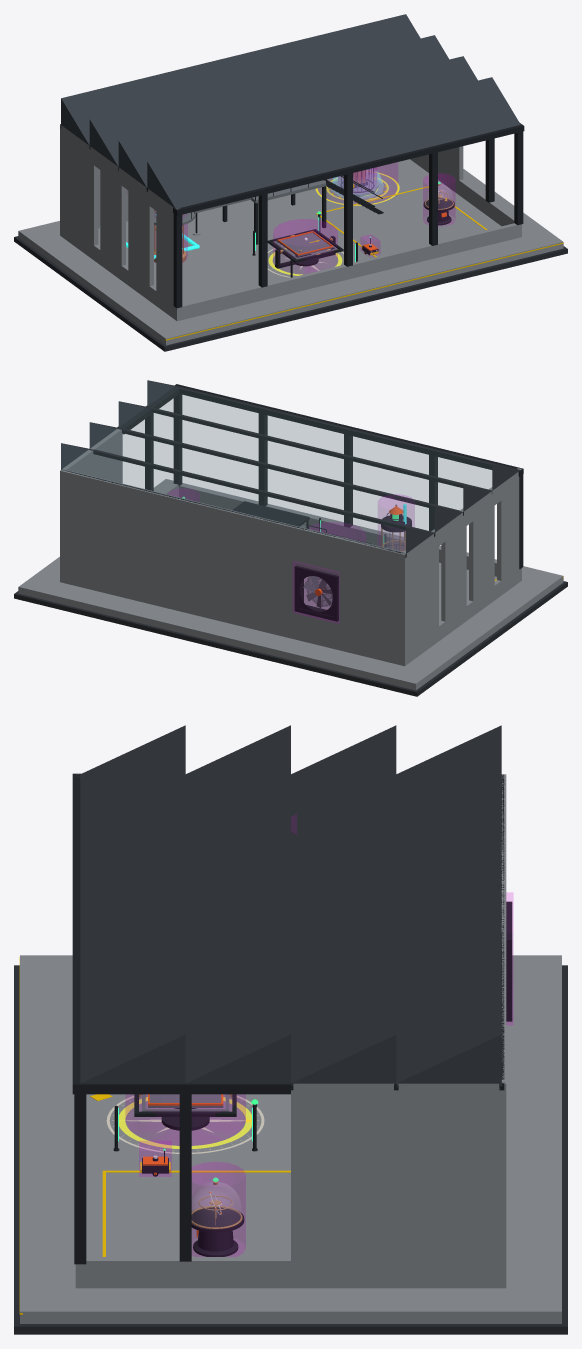
File: twinplant_factory.glb
3 renders of one model, top to bottom at view 1: azimuth 30°, elevation 25°; view 2: azimuth 150°, elevation 25°; view 3: azimuth 270°, elevation 25°, orthographic. The views are drawn at different scales.
Visible parts, largest first — view 1: FX_Roof_Panels, STATIC_Plinth, STATIC_Building, STATIC_Mezzanine, HIT_Tilt, ANIM_Tilt_Deck, FX_HV_Shield, HIT_Incubator, STATIC_HV_Body, STATIC_Tilt_Base, ANIM_Tilt_GimbalOuter, STATIC_Incubator_Body; view 2: STATIC_Building, FX_Roof_Panels, STATIC_Plinth, STATIC_Fan_Housing, STATIC_Mezzanine, STATIC_Tank_Body, HIT_Tilt, HIT_Tank, HIT_Fan, ANIM_Fan_Rotor; view 3: FX_Roof_Panels, STATIC_Plinth, STATIC_Building, HIT_Incubator, HIT_Tilt, STATIC_Incubator_Body, STATIC_Incubator_Glass, FX_Tilt_Arc, ANIM_Tilt_Deck, FX_Tilt_Compass, STATIC_Fan_Housing, STATIC_Tilt_Base.
Boxes of the visible parts, box(x1,y1,x2,y2) form: FX_Roof_Panels: box(60, 14, 524, 287); STATIC_Plinth: box(14, 159, 567, 351); STATIC_Building: box(60, 124, 523, 321); STATIC_Mezzanine: box(195, 175, 383, 244); HIT_Tilt: box(273, 219, 337, 273); ANIM_Tilt_Deck: box(277, 231, 333, 256); FX_HV_Shield: box(332, 169, 383, 198); HIT_Incubator: box(423, 173, 455, 226); STATIC_HV_Body: box(316, 170, 398, 205); STATIC_Tilt_Base: box(252, 214, 357, 277); ANIM_Tilt_GimbalOuter: box(267, 229, 343, 262); STATIC_Incubator_Body: box(423, 184, 454, 225); STATIC_Building: box(60, 386, 523, 666); FX_Roof_Panels: box(61, 380, 523, 557); STATIC_Plinth: box(14, 479, 567, 696); STATIC_Fan_Housing: box(294, 565, 338, 621); STATIC_Mezzanine: box(232, 501, 326, 589); STATIC_Tank_Body: box(381, 504, 411, 551); HIT_Tilt: box(309, 522, 365, 541); HIT_Tank: box(378, 494, 414, 545); HIT_Fan: box(293, 561, 339, 623); ANIM_Fan_Rotor: box(303, 576, 332, 608); FX_Roof_Panels: box(72, 725, 504, 1261); STATIC_Plinth: box(14, 955, 567, 1334); STATIC_Building: box(74, 773, 506, 1288); HIT_Incubator: box(192, 1162, 245, 1256); HIT_Tilt: box(125, 1094, 245, 1145); STATIC_Incubator_Body: box(191, 1181, 244, 1256); STATIC_Incubator_Glass: box(192, 1182, 240, 1226); FX_Tilt_Arc: box(119, 1097, 251, 1148); ANIM_Tilt_Deck: box(148, 1094, 223, 1107); FX_Tilt_Compass: box(106, 1095, 264, 1153); STATIC_Fan_Housing: box(506, 901, 512, 1021); STATIC_Tilt_Base: box(113, 1104, 257, 1151).
Bounding box in the file's own units: 28.4 × 10.05 × 18.4.
